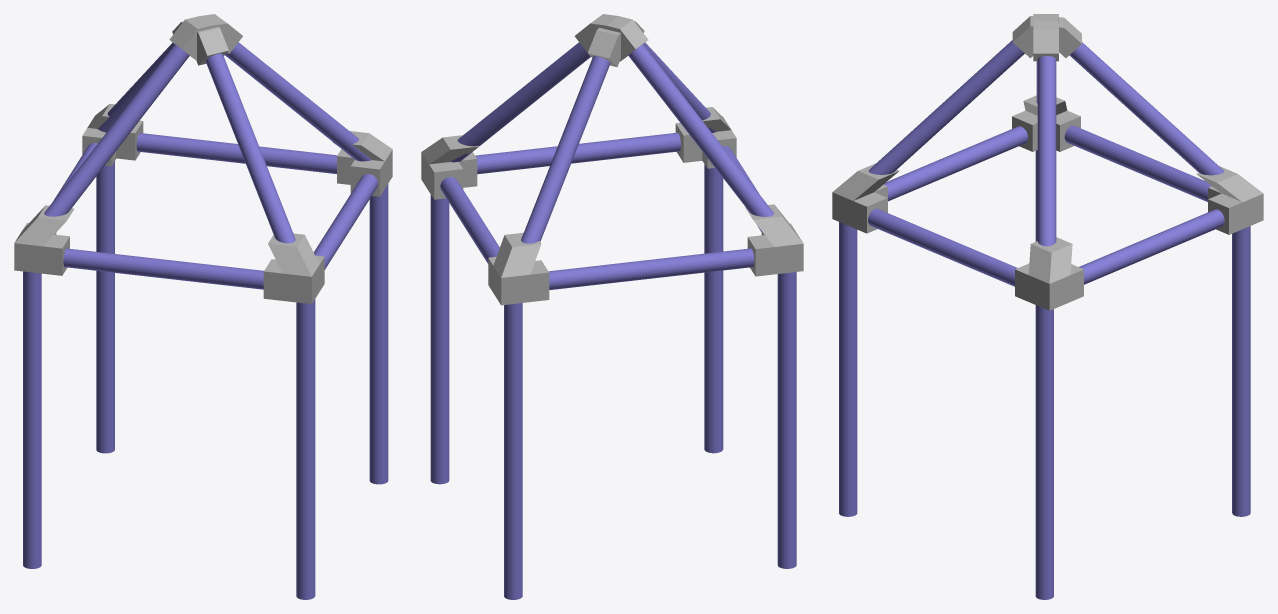
File: SensoryTent.fbx
3 views of the same model, side by side, from view 1: azimuth 30°, elevation 25°; view 2: azimuth 150°, elevation 25°; view 3: azimuth 270°, elevation 25° (orthographic).
Visible parts, largest first — view 1: Tent Pole Uprights, Tent Pole Strut, Tent Pole Horizontal 2, Tent Pole Roof 2, Tent Pole Roof 3, Tent Pole Roof 4, Tent Pole Horizontal 1, Tent Pole Strut 2, Tent Pole Strut 3, Tent Pole Roof 1; view 2: Tent Pole Uprights, Tent Pole Strut, Tent Pole Horizontal 1, Tent Pole Roof 2, Tent Pole Roof 1, Tent Pole Roof 4, Tent Pole Horizontal 2, Tent Pole Strut 2, Tent Pole Strut 3, Tent Pole Roof 3; view 3: Tent Pole Uprights, Tent Pole Strut, Tent Pole Horizontal 1, Tent Pole Horizontal 2, Tent Pole Roof 4, Tent Pole Roof 3, Tent Pole Roof 1, Tent Pole Strut 3, Tent Pole Strut 2.
Boxes of the visible parts, x1,y1,x2,y2 form: Tent Pole Uprights: (23,161,388,599); Tent Pole Strut: (14,104,392,304); Tent Pole Horizontal 2: (63,133,336,289); Tent Pole Roof 2: (44,44,189,216); Tent Pole Roof 3: (205,53,295,243); Tent Pole Roof 4: (225,42,371,161); Tent Pole Horizontal 1: (53,143,378,269); Tent Pole Strut 2: (169,14,242,60); Tent Pole Strut 3: (172,21,228,65); Tent Pole Roof 1: (98,42,174,132); Tent Pole Uprights: (430,164,796,599); Tent Pole Strut: (421,107,803,305); Tent Pole Horizontal 1: (475,132,754,289); Tent Pole Roof 2: (628,44,773,216); Tent Pole Roof 1: (521,56,610,243); Tent Pole Roof 4: (450,42,590,162); Tent Pole Horizontal 2: (440,146,761,263); Tent Pole Strut 2: (574,14,648,61); Tent Pole Strut 3: (588,21,644,67); Tent Pole Roof 3: (643,42,716,132); Tent Pole Uprights: (839,150,1250,599); Tent Pole Strut: (832,95,1263,310); Tent Pole Horizontal 1: (868,125,1211,286); Tent Pole Horizontal 2: (884,126,1224,284); Tent Pole Roof 4: (1037,56,1056,246); Tent Pole Roof 3: (868,40,1024,174); Tent Pole Roof 1: (1069,42,1223,175); Tent Pole Strut 3: (1012,16,1081,58); Tent Pole Strut 2: (1033,14,1058,61).
Size of the model in its own units: 255 by 322 by 255.
